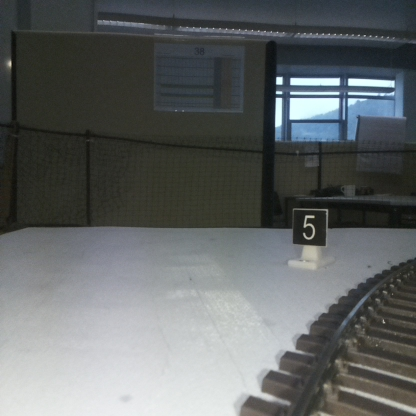white-stop-5: (293, 208, 326, 268)
